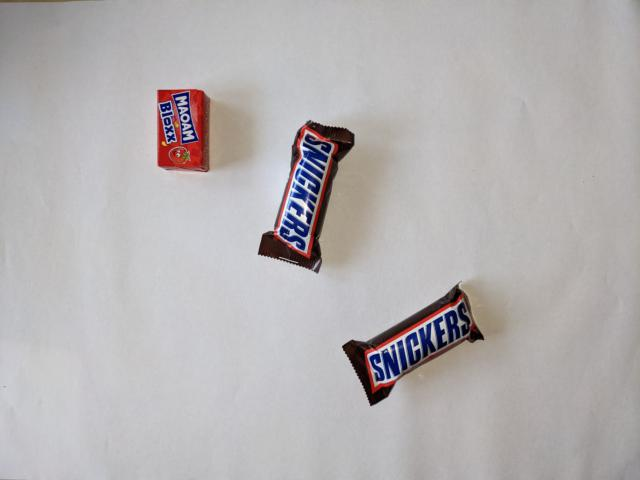MAOAM: (153, 85, 213, 175)
Snickers: (339, 279, 487, 409), (254, 119, 357, 277)
